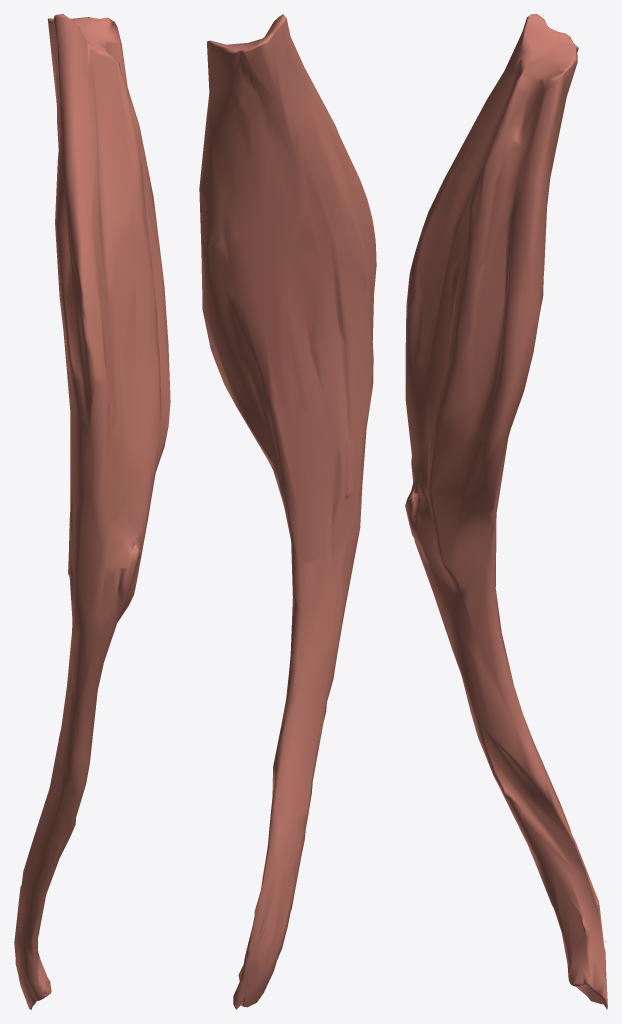
3 renders of one model, left to right at view 1: azimuth 30°, elevation 25°; view 2: azimuth 150°, elevation 25°; view 3: azimuth 270°, elevation 25°, orthographic. The views are drawn at different scales.
Visible parts, largest first — view 1: 左侧踇展肌; view 2: 左侧踇展肌; view 3: 左侧踇展肌.
Part boxes in pixels (x1,y1,x2,y2): 左侧踇展肌: (14,14,170,1009); 左侧踇展肌: (199,14,376,1009); 左侧踇展肌: (405,14,607,1009).
Bounding box in the file's own units: 0.0301 × 0.214 × 0.0397.
